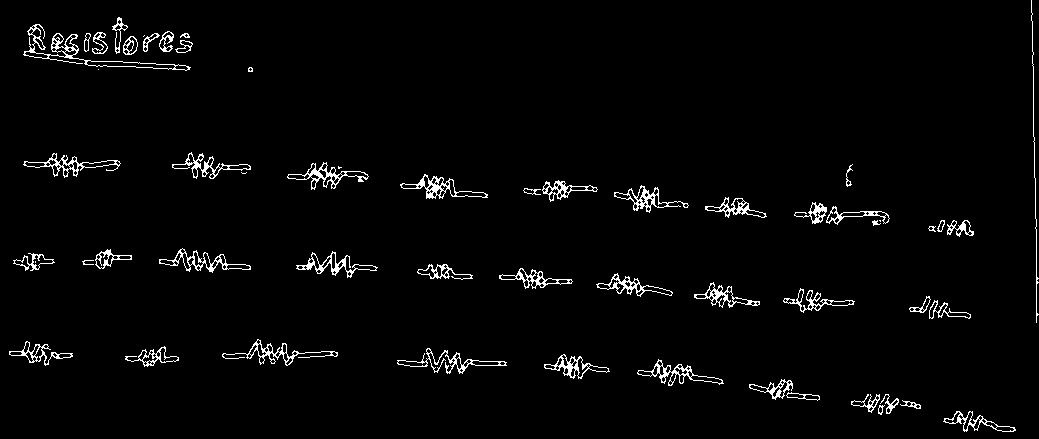resistor: (237, 333, 310, 370), (162, 244, 239, 278), (301, 249, 371, 282), (295, 158, 355, 196), (35, 149, 101, 183), (414, 345, 481, 378), (411, 169, 467, 205), (619, 181, 673, 217), (642, 356, 701, 388), (176, 149, 231, 183), (14, 336, 67, 369), (797, 199, 857, 227), (711, 190, 761, 223), (945, 405, 998, 436), (601, 271, 658, 299), (853, 390, 911, 417), (506, 265, 563, 292), (550, 351, 597, 383), (533, 174, 583, 204), (911, 293, 959, 324), (702, 281, 743, 313), (422, 256, 461, 289), (790, 284, 834, 313), (759, 376, 805, 402), (84, 244, 125, 271), (132, 342, 169, 371), (930, 217, 974, 241), (16, 246, 49, 276)
